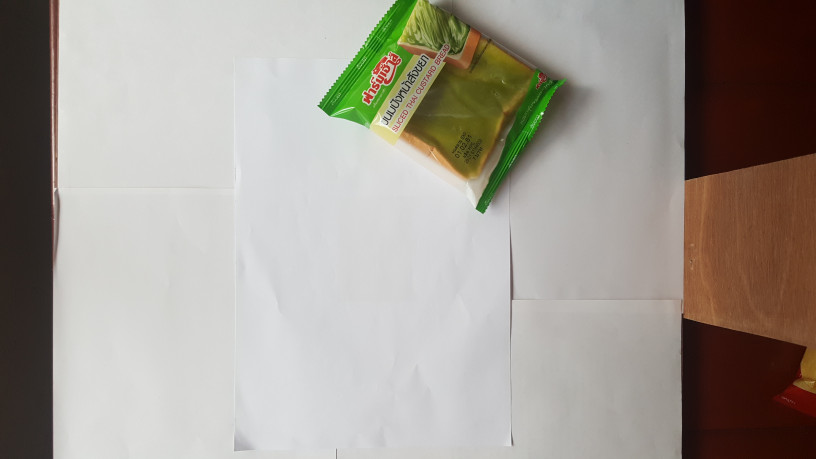farmhouse-bread-pandan: (309, 1, 575, 210)
